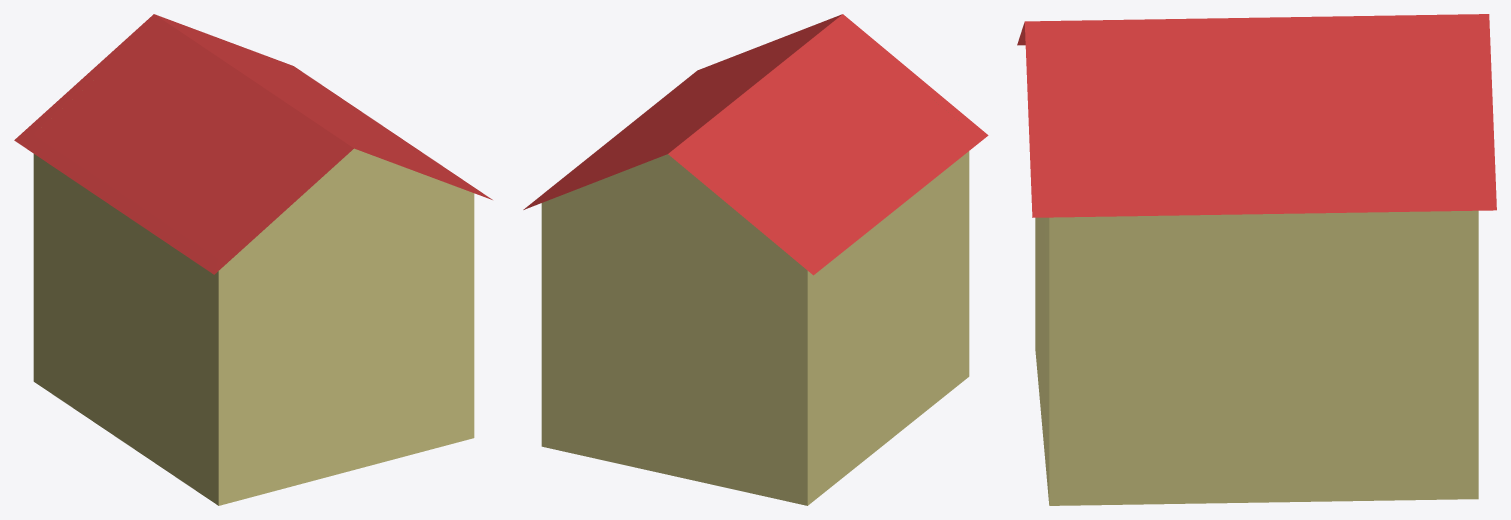
The picture shows the model from 3 angles, left to right: view 1: azimuth 30°, elevation 25°; view 2: azimuth 150°, elevation 25°; view 3: azimuth 270°, elevation 25°; orthographic projection. The views are drawn at different scales.
Size of the model in its own units: 12.12 by 13.67 by 12.76.
